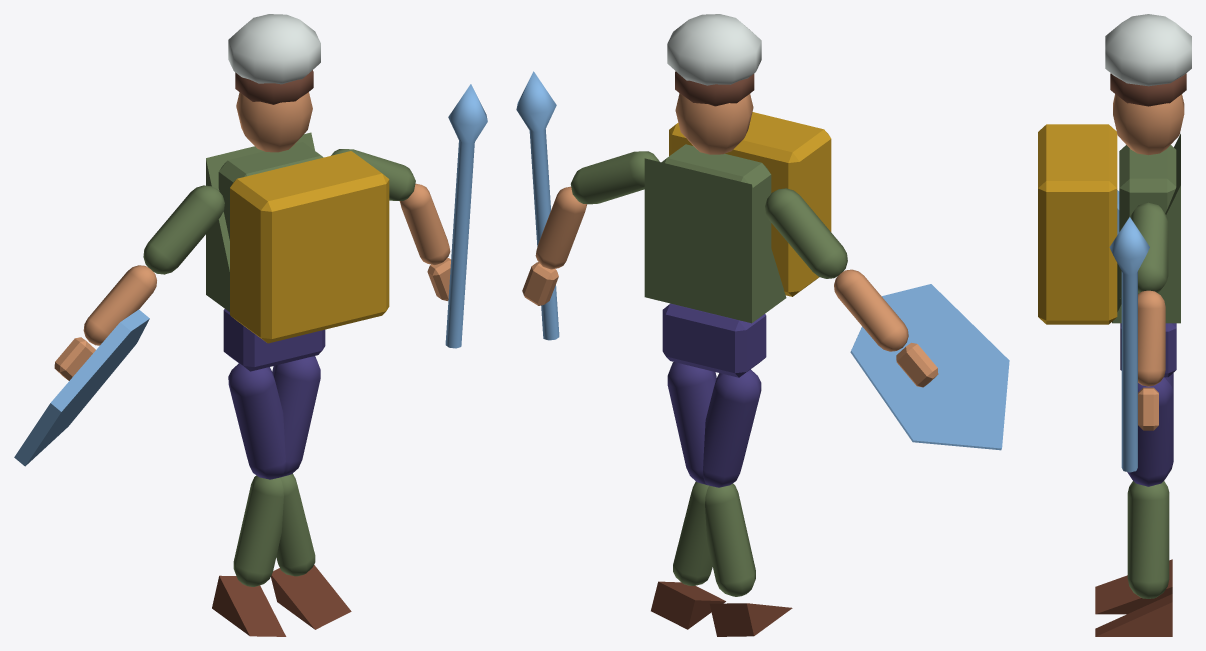
The model's file is adventurer.rustic.glb.
3 renders of one model, left to right at view 1: azimuth 30°, elevation 25°; view 2: azimuth 150°, elevation 25°; view 3: azimuth 270°, elevation 25°, orthographic.
Visible parts, largest first — view 1: accessory.body, accessory.head, accessory.off-hand, accessory.main-hand, thigh.left, shin.right, upper-arm.left, thigh.right, head, pelvis, foot.left, tunic (+9 smaller); view 2: tunic, accessory.off-hand, accessory.body, pelvis, accessory.head, thigh.left, shin.right, upper-arm.left, accessory.main-hand, thigh.right, head, forearm.left (+9 smaller); view 3: accessory.body, accessory.head, accessory.main-hand, shin.left, torso, head, thigh.right, forearm.right, upper-arm.right, tunic, foot.left, foot.right (+3 smaller).
Boxes of the visible parts, <box> form: accessory.body: <box>230,151,389,343</box>; accessory.head: <box>228,14,320,84</box>; accessory.off-hand: <box>14,309,149,466</box>; accessory.main-hand: <box>445,84,487,348</box>; thigh.left: <box>228,363,285,479</box>; shin.right: <box>233,475,283,586</box>; upper-arm.left: <box>143,185,224,274</box>; thigh.right: <box>272,356,320,477</box>; head: <box>236,92,312,152</box>; pelvis: <box>223,309,325,371</box>; foot.left: <box>271,565,351,629</box>; tunic: <box>206,132,314,311</box>; tunic: <box>644,158,786,323</box>; accessory.off-hand: <box>850,284,1009,450</box>; accessory.body: <box>669,112,831,296</box>; pelvis: <box>662,303,766,377</box>; accessory.head: <box>667,14,761,85</box>; thigh.left: <box>703,369,761,487</box>; shin.right: <box>705,483,755,596</box>; upper-arm.left: <box>765,188,847,278</box>; accessory.main-hand: <box>516,71,559,340</box>; thigh.right: <box>667,362,716,485</box>; head: <box>675,93,753,154</box>; forearm.left: <box>834,269,908,351</box>; accessory.body: <box>1038,124,1117,324</box>; accessory.head: <box>1105,14,1191,86</box>; accessory.main-hand: <box>1109,217,1149,472</box>; shin.left: <box>1127,482,1169,598</box>; torso: <box>1119,145,1176,298</box>; head: <box>1113,94,1184,155</box>; thigh.right: <box>1127,377,1173,486</box>; forearm.right: <box>1138,290,1165,386</box>; upper-arm.right: <box>1130,202,1168,292</box>; tunic: <box>1112,133,1180,323</box>; foot.left: <box>1095,594,1172,636</box>; foot.right: <box>1095,559,1172,614</box>.
Size of the model in its own units: 2.65 by 3.18 by 0.738.
